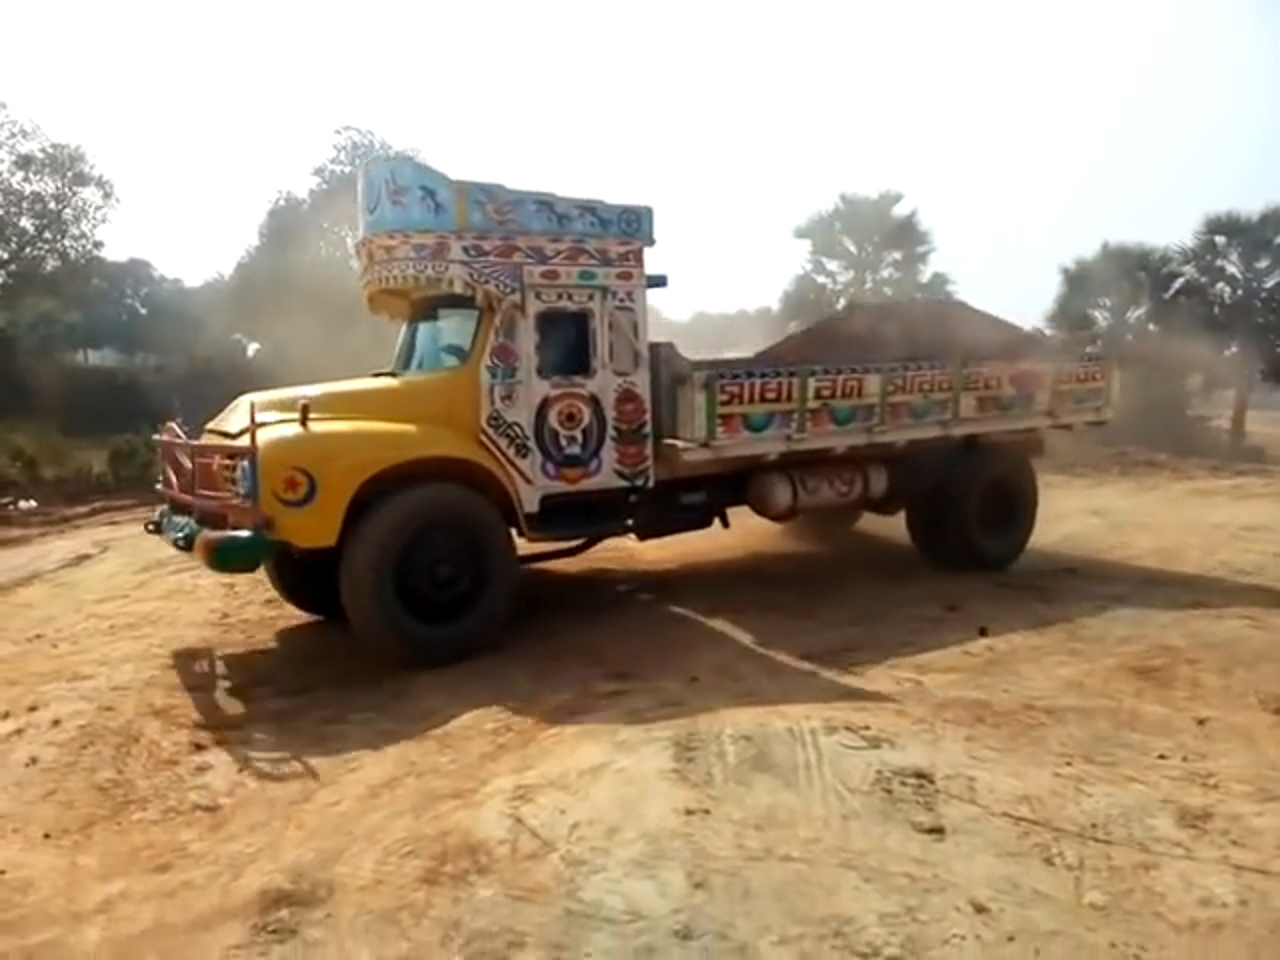truck: (120, 184, 1123, 655)
